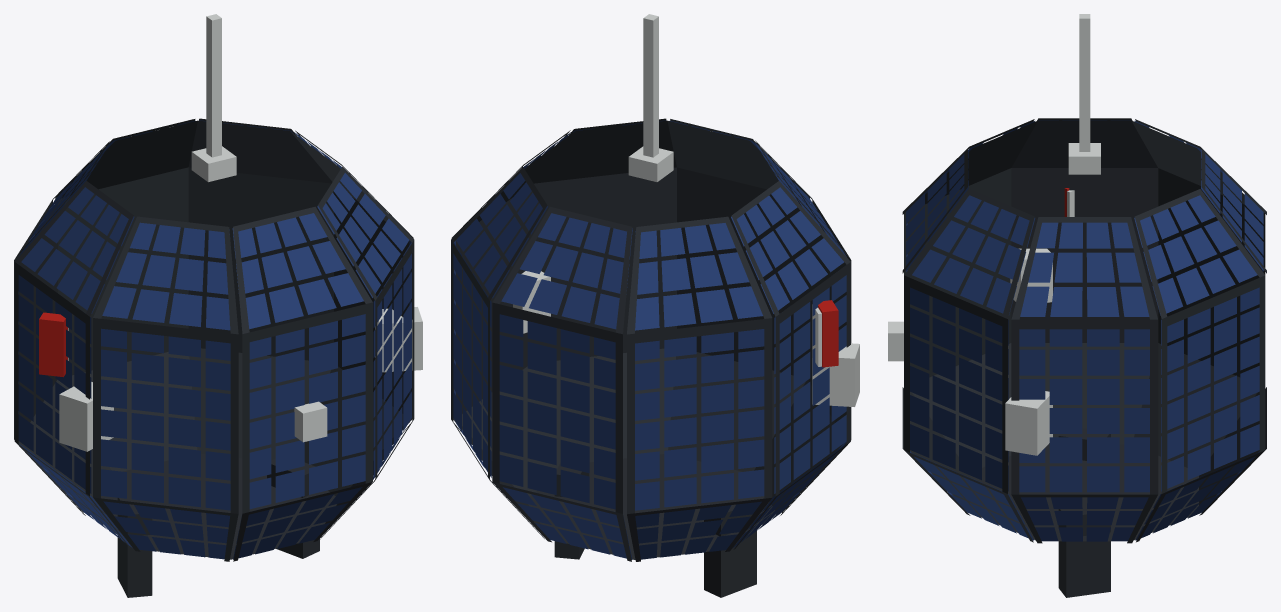
File: ARYABHATA.glb
3 renders of one model, left to right at view 1: azimuth 30°, elevation 25°; view 2: azimuth 150°, elevation 25°; view 3: azimuth 270°, elevation 25°, orthographic. The views are drawn at different scales.
Parts seen in each view (by area): view 1: ARYABHATA_CONSOLIDATED_SOLAR_CELLS, ARYABHATA_MAIN_STRUCTURAL_BODY, ARYABHATA_CONSOLIDATED_SOLAR_FRAMES, ARYABHATA_SIDE_INSTRUMENTS, ARYABHATA_TOP_ANTENNA, ARYABHATA_LOWER_SUPPORT_STRUCTURE, ARYABHATA_RED_EXTERNAL_COMPONENT; view 2: ARYABHATA_CONSOLIDATED_SOLAR_CELLS, ARYABHATA_MAIN_STRUCTURAL_BODY, ARYABHATA_CONSOLIDATED_SOLAR_FRAMES, ARYABHATA_LOWER_SUPPORT_STRUCTURE, ARYABHATA_TOP_ANTENNA, ARYABHATA_SIDE_INSTRUMENTS, ARYABHATA_RED_EXTERNAL_COMPONENT; view 3: ARYABHATA_CONSOLIDATED_SOLAR_CELLS, ARYABHATA_MAIN_STRUCTURAL_BODY, ARYABHATA_CONSOLIDATED_SOLAR_FRAMES, ARYABHATA_SIDE_INSTRUMENTS, ARYABHATA_LOWER_SUPPORT_STRUCTURE, ARYABHATA_TOP_ANTENNA.
Boxes of the visible parts, x1,y1,x2,y2 form: ARYABHATA_CONSOLIDATED_SOLAR_CELLS: (18,120,411,559); ARYABHATA_MAIN_STRUCTURAL_BODY: (19,120,409,559); ARYABHATA_CONSOLIDATED_SOLAR_FRAMES: (14,118,414,561); ARYABHATA_SIDE_INSTRUMENTS: (59,307,422,451); ARYABHATA_TOP_ANTENNA: (191,14,236,182); ARYABHATA_LOWER_SUPPORT_STRUCTURE: (117,458,319,597); ARYABHATA_RED_EXTERNAL_COMPONENT: (39,312,67,377); ARYABHATA_CONSOLIDATED_SOLAR_CELLS: (453,120,846,559); ARYABHATA_MAIN_STRUCTURAL_BODY: (456,120,846,559); ARYABHATA_CONSOLIDATED_SOLAR_FRAMES: (451,118,851,561); ARYABHATA_LOWER_SUPPORT_STRUCTURE: (554,463,756,597); ARYABHATA_TOP_ANTENNA: (628,14,673,181); ARYABHATA_SIDE_INSTRUMENTS: (513,271,859,406); ARYABHATA_RED_EXTERNAL_COMPONENT: (818,300,838,367); ARYABHATA_CONSOLIDATED_SOLAR_CELLS: (906,120,1263,541); ARYABHATA_MAIN_STRUCTURAL_BODY: (907,120,1261,541); ARYABHATA_CONSOLIDATED_SOLAR_FRAMES: (902,118,1266,543); ARYABHATA_SIDE_INSTRUMENTS: (888,190,1074,455); ARYABHATA_LOWER_SUPPORT_STRUCTURE: (1058,428,1110,597); ARYABHATA_TOP_ANTENNA: (1068,14,1100,174).
Bounding box in the file's own units: 3.28 × 4.78 × 3.06.
